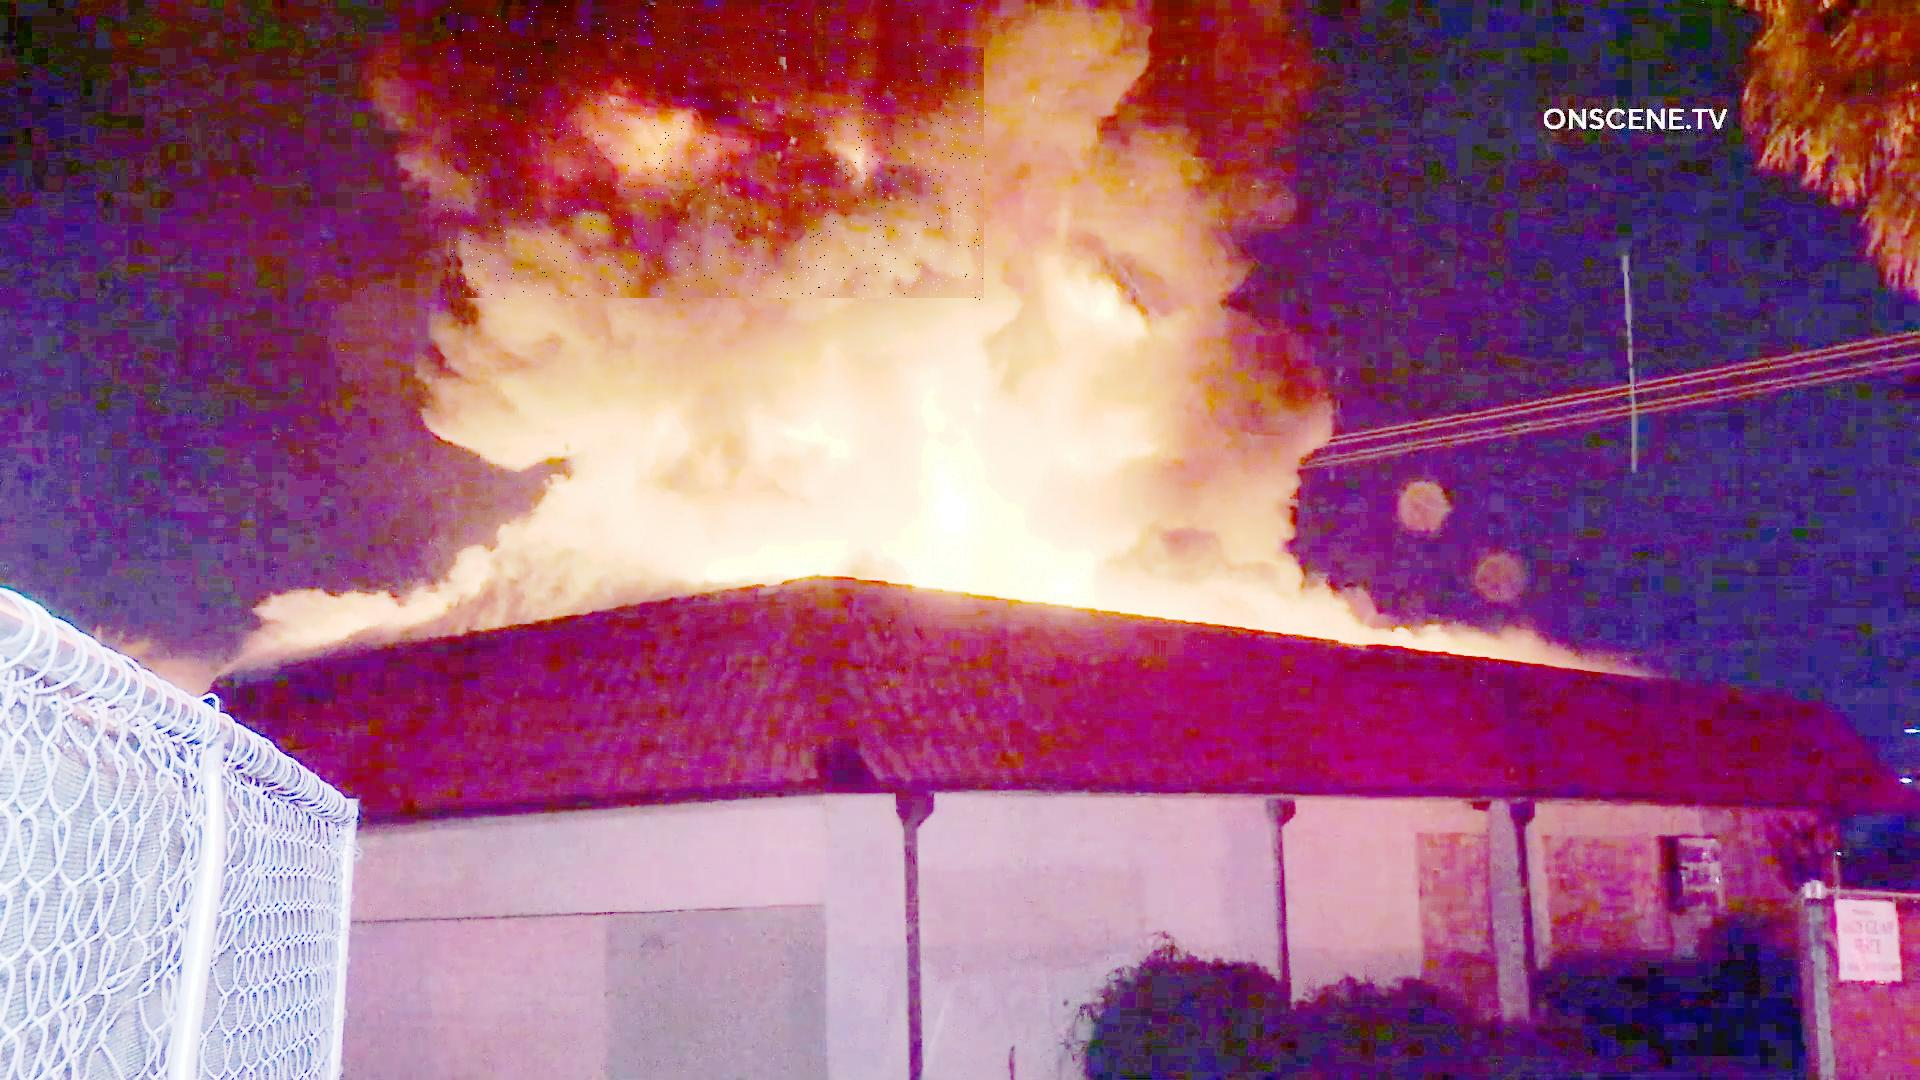smoke: (440, 5, 986, 301)
